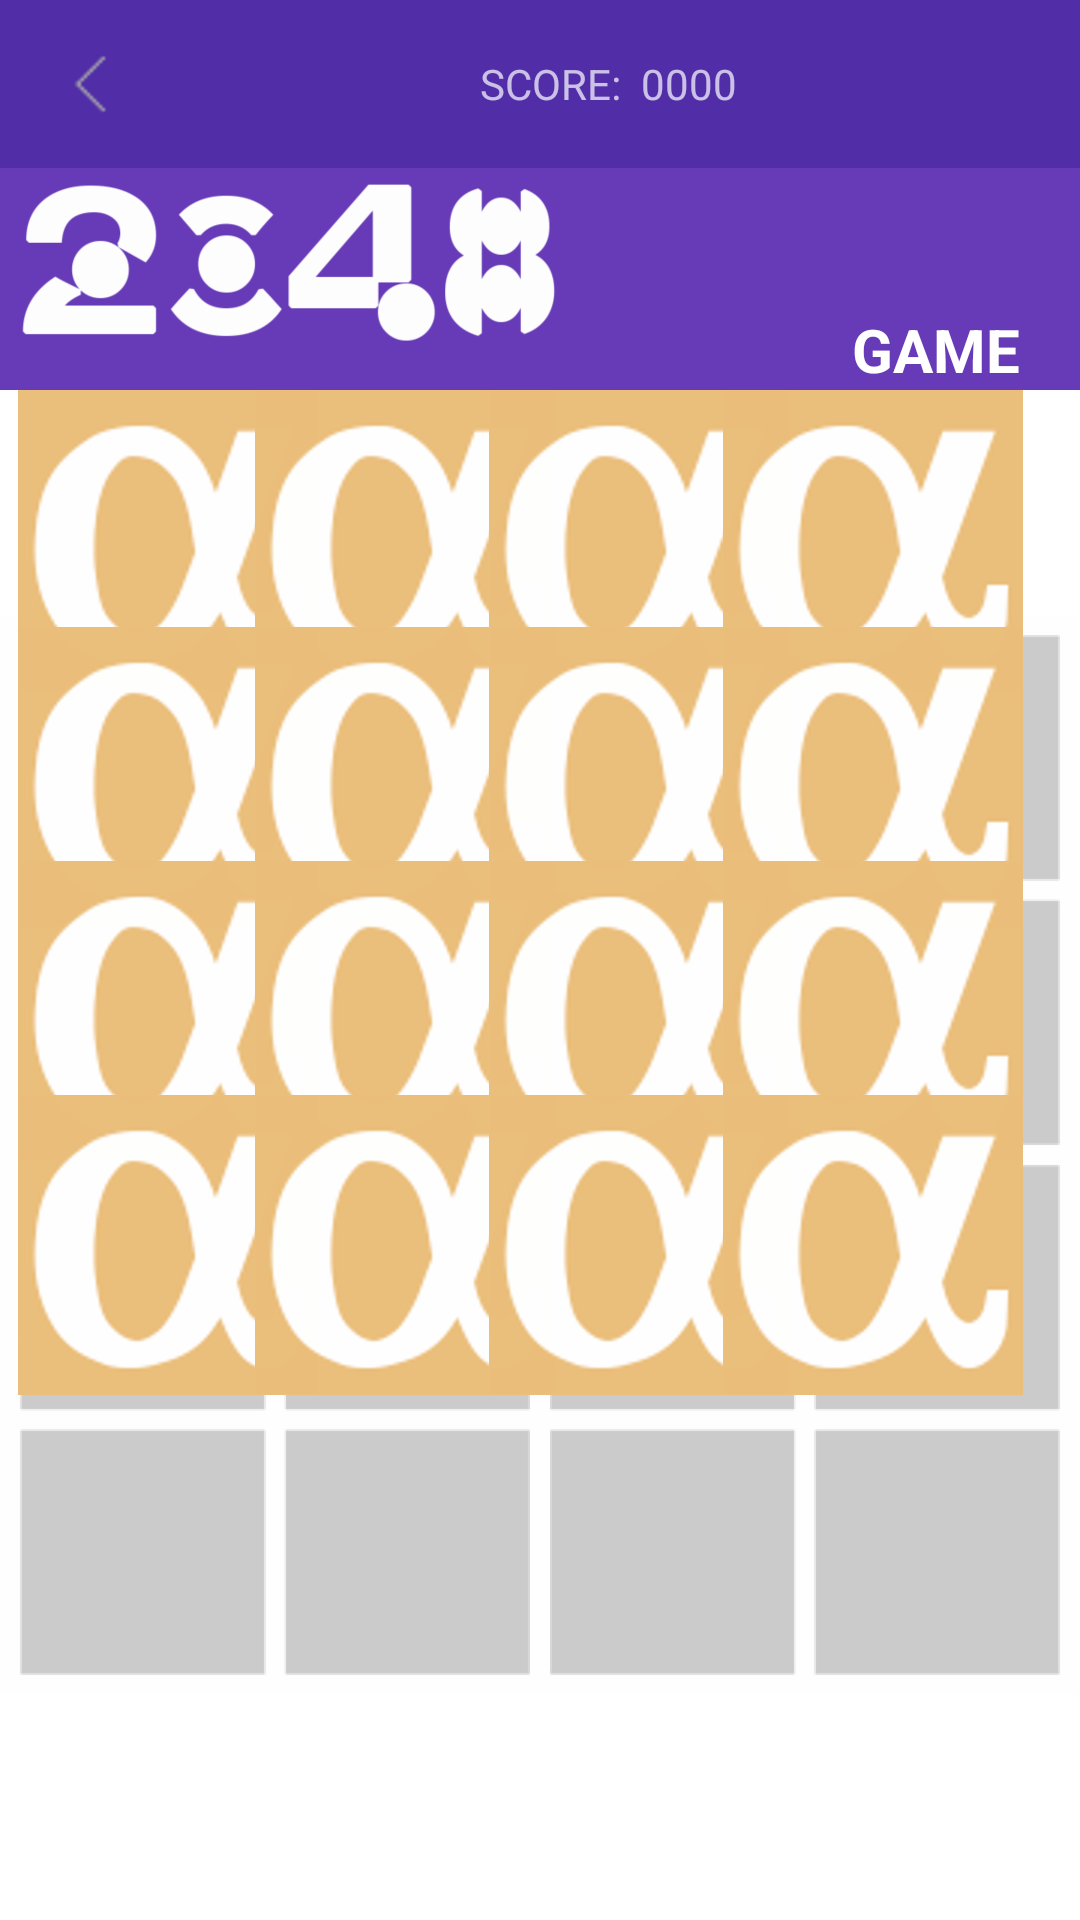

Where icons sit on this 1080x1920 app screen, as rect(x1, y1, x2, y2):
flecha atras: rect(75, 56, 106, 112)
